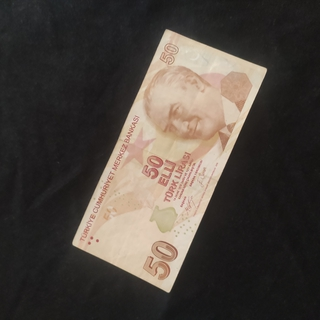50TLFront: (71, 28, 268, 293)
